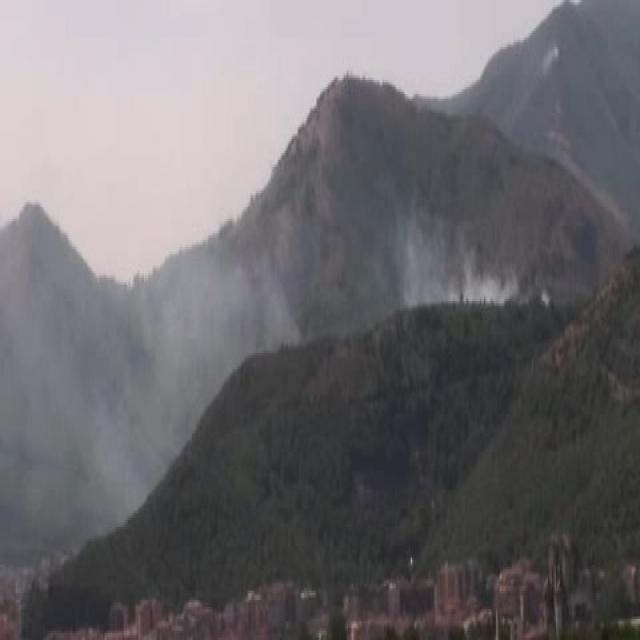smoke: (110, 259, 269, 403), (406, 263, 518, 307)
